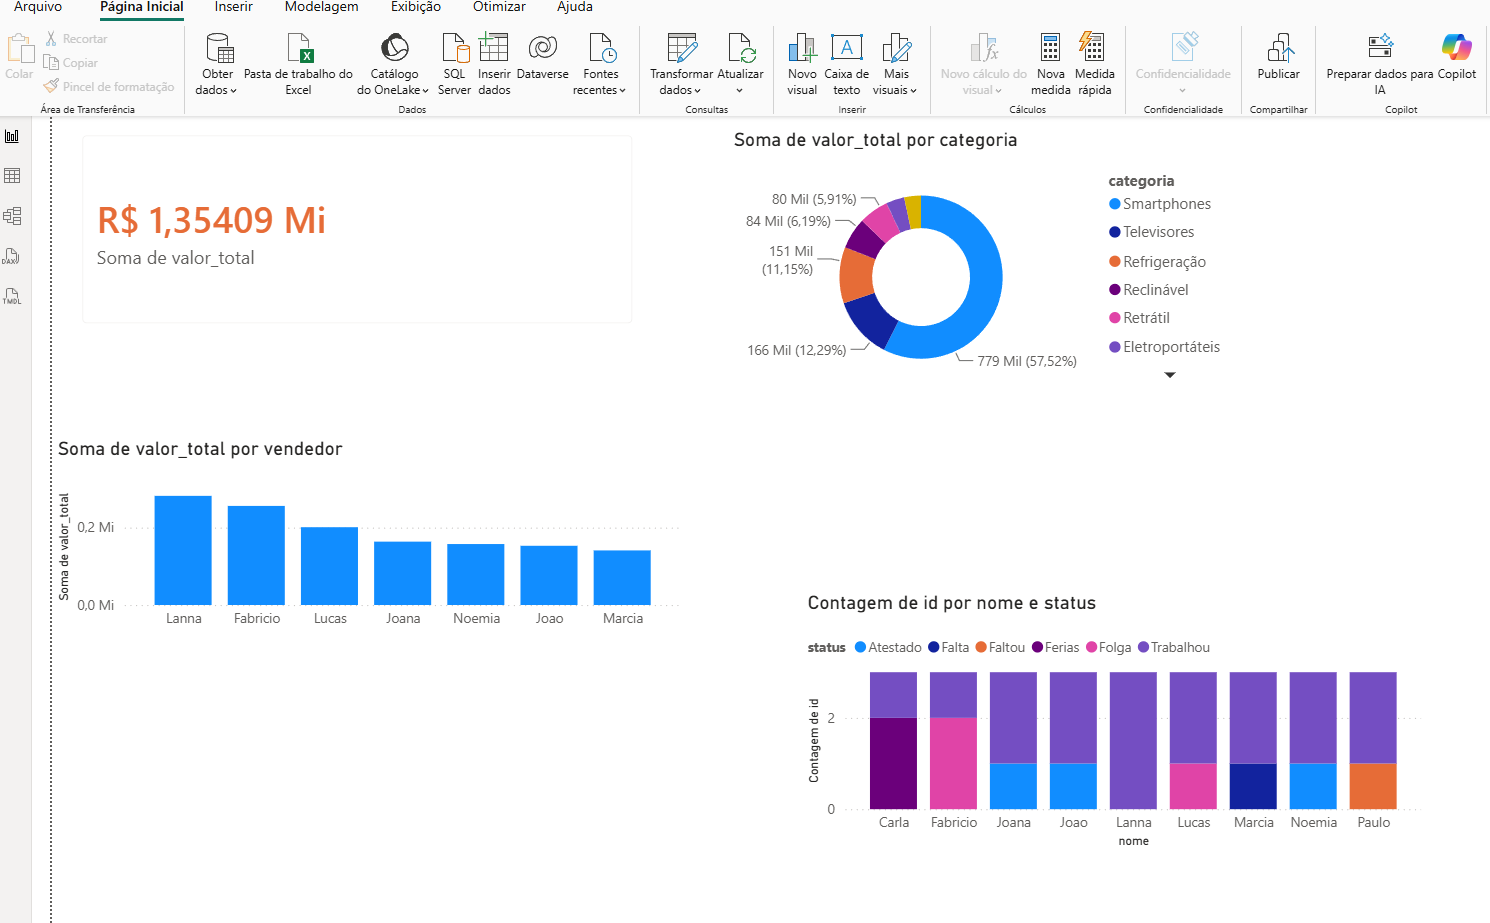

Layout of this report page (visuals, bound fields, positions):
{"tool":"powerbi","page":{"name":"Página 1","canvas":[1280,720],"ordinal":0},"visuals":[{"type":"columnChart","fields":{"Category":["id_venda,vendedor,produto,categoria,quan.vendedor"],"Y":["Sum(id_venda,vendedor,produto,categoria,quan.valor_total)"]},"box":[0,285,563.2,179],"z":0},{"type":"cardVisual","fields":{"Data":["Sum(id_venda,vendedor,produto,categoria,quan.valor_total)"]},"box":[9.7,0,522.3,201.3],"z":1000},{"type":"donutChart","fields":{"Category":["id_venda,vendedor,produto,categoria,quan.categoria"],"Y":["Sum(id_venda,vendedor,produto,categoria,quan.valor_total)"]},"box":[599.1,10.7,450.3,232.5],"z":2000},{"type":"columnChart","fields":{"Series":["pontos_1.status"],"Category":["id,nome.nome"],"Y":["CountNonNull(pontos_1.id)"]},"box":[665.3,421.2,554.4,232.5],"z":2001}]}

Visuals, with their boxes on the page's 1280x720 design canvas (x1, y1, x2, y2). These are canvas units, not pixel positions in the 1490x923 screenshot, which may show the page scaled, cropped or inside an application window:
columnChart - id_venda,vendedor,produto,categoria,quan.vendedor x Sum(id_venda,vendedor,produto,categoria,quan.valor_total): (left=0, top=285, right=563, bottom=464)
cardVisual - Sum(id_venda,vendedor,produto,categoria,quan.valor_total): (left=10, top=0, right=532, bottom=201)
donutChart - id_venda,vendedor,produto,categoria,quan.categoria x Sum(id_venda,vendedor,produto,categoria,quan.valor_total): (left=599, top=11, right=1049, bottom=243)
columnChart - pontos_1.status x id,nome.nome: (left=665, top=421, right=1220, bottom=654)
